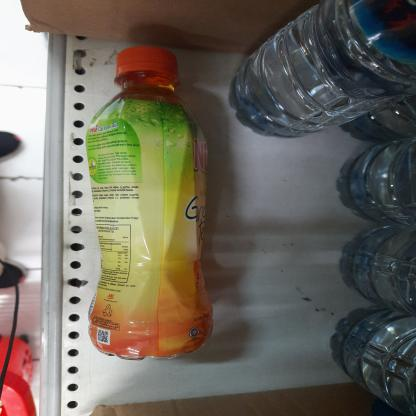bottle: (78, 38, 218, 364)
